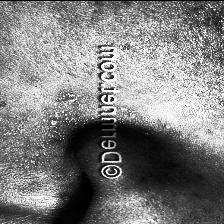Non-Cancerous Skin Condition: (186, 1, 224, 75), (142, 158, 206, 200)
